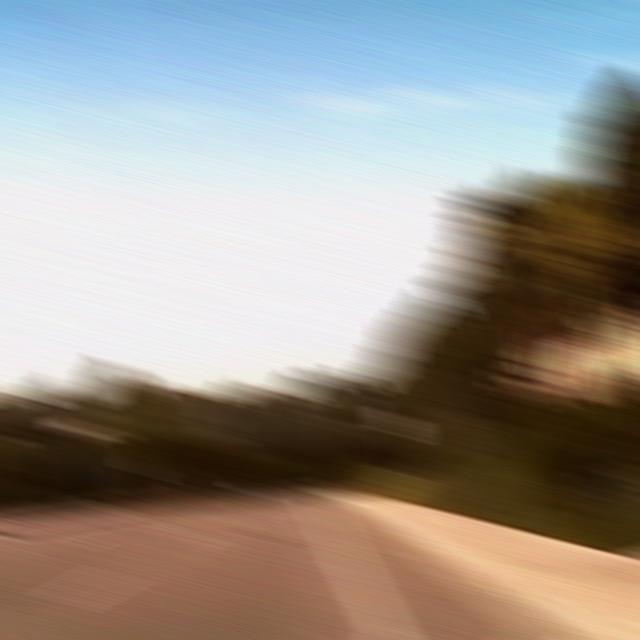speedLimit45: (380, 410, 415, 438)
